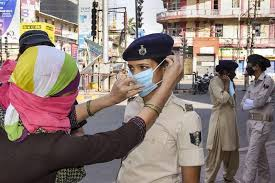mask: (28, 47, 86, 131), (116, 56, 168, 97), (243, 55, 262, 82), (217, 65, 239, 84)
